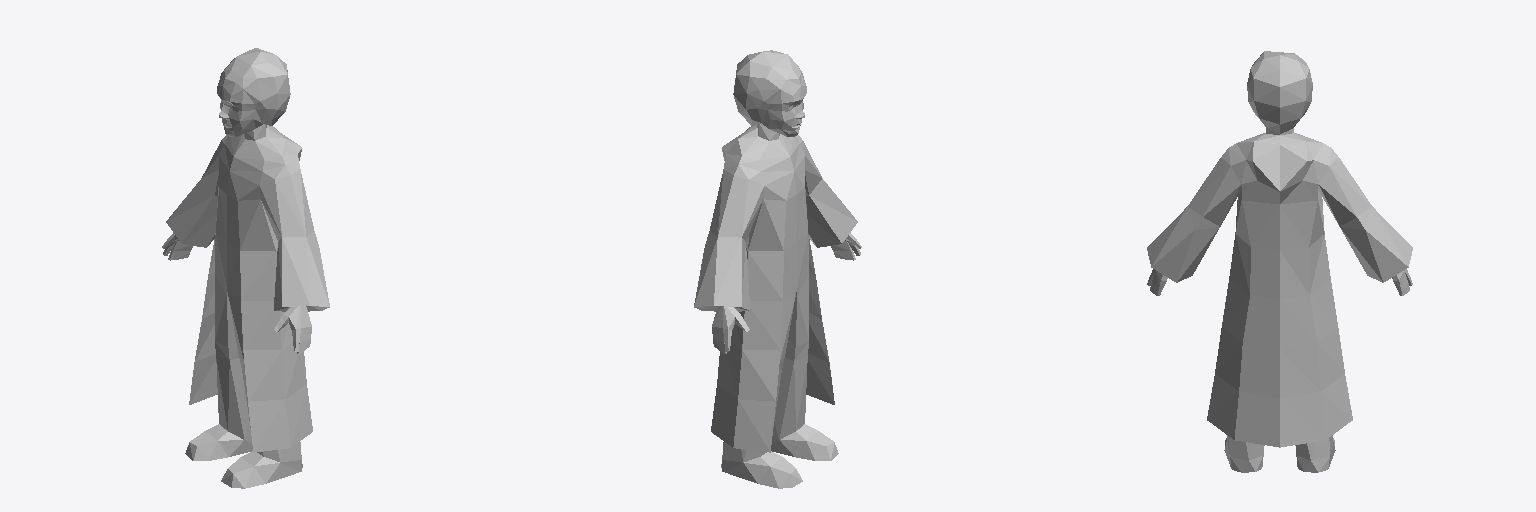
Rendered from skDracoMesh.obj.
3 views of the same model, side by side, from view 1: azimuth 30°, elevation 25°; view 2: azimuth 150°, elevation 25°; view 3: azimuth 270°, elevation 25° (orthographic).
Visible parts, largest first — view 1: material_0, None, material_2; view 2: material_0, None, material_2; view 3: None, material_0, material_2.
Part boxes in pixels (x1,y1,x2,y2): material_0: (162, 135, 329, 488); None: (189, 124, 312, 452); material_2: (217, 48, 290, 136); material_0: (694, 135, 861, 488); None: (711, 124, 834, 452); material_2: (733, 50, 806, 136); None: (1207, 128, 1352, 447); material_0: (1147, 143, 1412, 472); material_2: (1247, 51, 1312, 133).
Bounding box in the file's own units: 21.5 × 85.1 × 50.57.